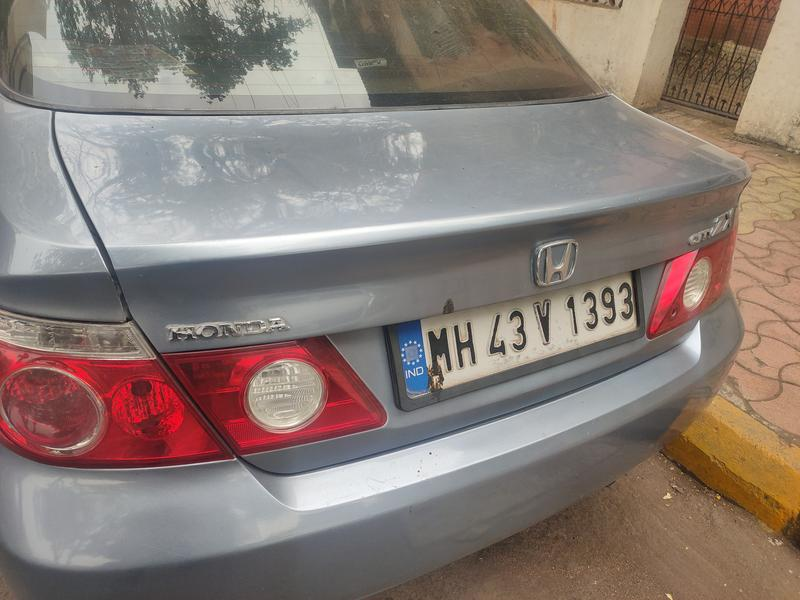license_plate: (401, 261, 646, 409)
